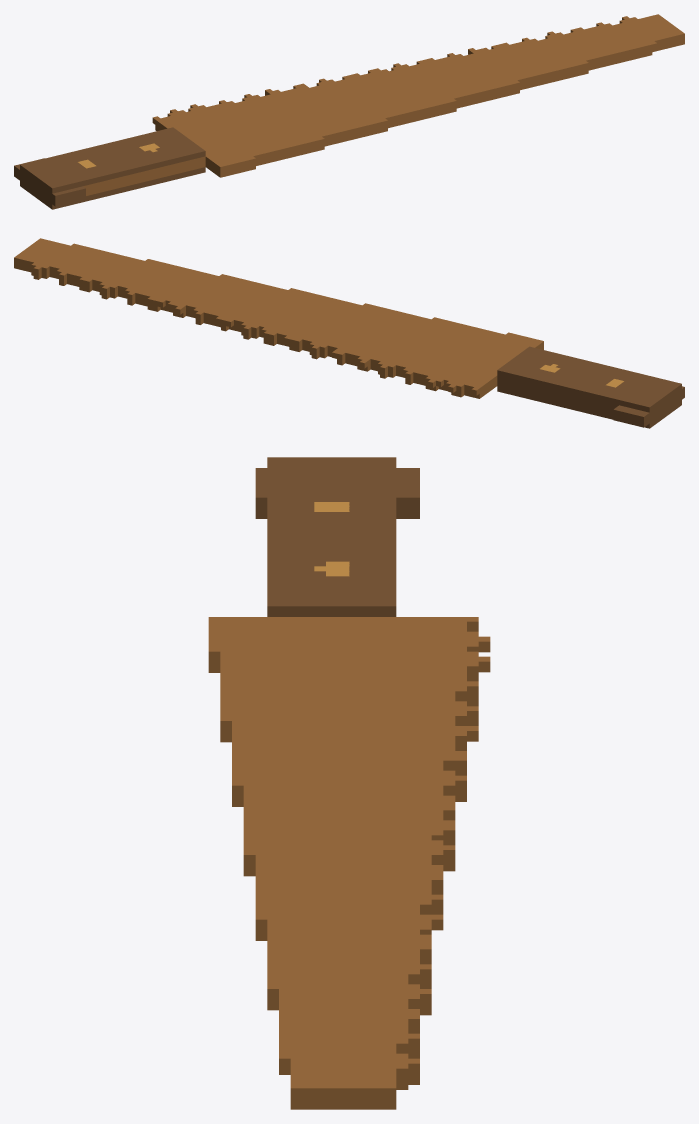
Rendered from saw_bronze.glb.
The picture shows the model from 3 angles, top to bottom: view 1: azimuth 30°, elevation 25°; view 2: azimuth 150°, elevation 25°; view 3: azimuth 270°, elevation 25°; orthographic projection. The views are drawn at different scales.
Parts seen in each view (by area): view 1: saw_bronze:compound; view 2: saw_bronze:compound; view 3: saw_bronze:compound.
Boxes of the visible parts, left/top/right/bottom form: saw_bronze:compound: left=14, top=14, right=684, bottom=209; saw_bronze:compound: left=14, top=238, right=684, bottom=428; saw_bronze:compound: left=208, top=457, right=490, bottom=1109.
Bounding box in the file's own units: 0.5 × 0.016 × 0.096.
